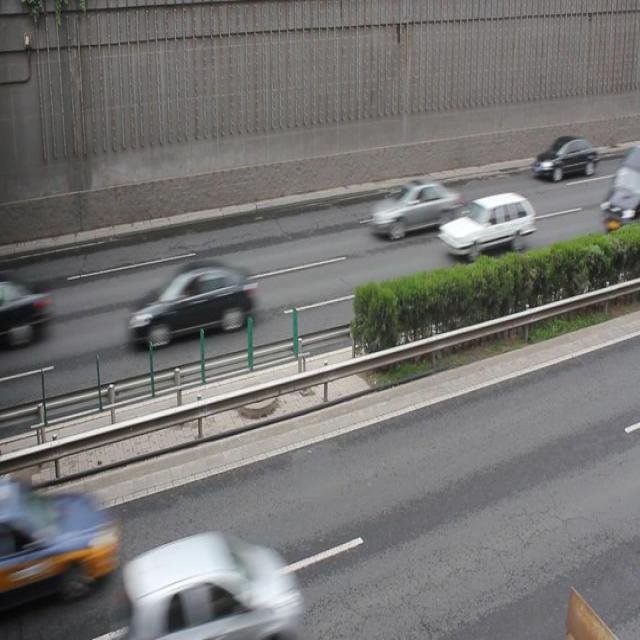car: (128, 527, 301, 640), (1, 475, 124, 606), (129, 261, 258, 345), (439, 192, 533, 255), (368, 177, 458, 239), (0, 270, 50, 345), (532, 137, 598, 178)
truck: (601, 148, 640, 235)
